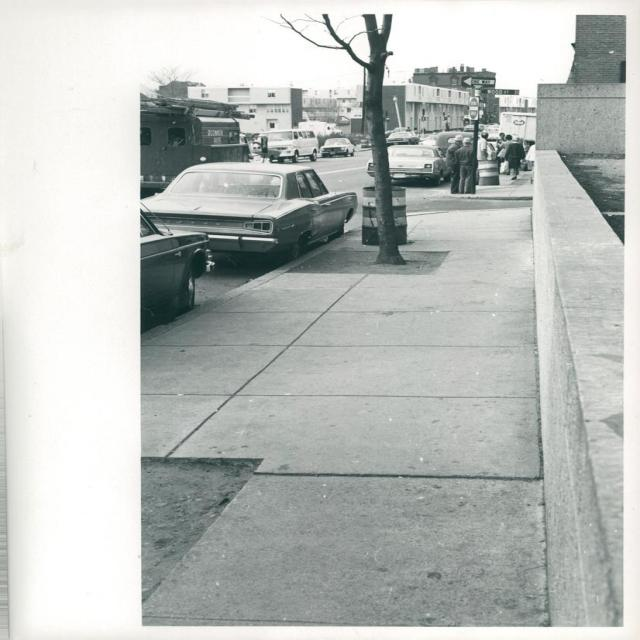other: (136, 162, 358, 266), (127, 197, 216, 311), (366, 124, 500, 186), (248, 142, 280, 162), (319, 138, 353, 156), (385, 132, 418, 146), (410, 132, 415, 136)
